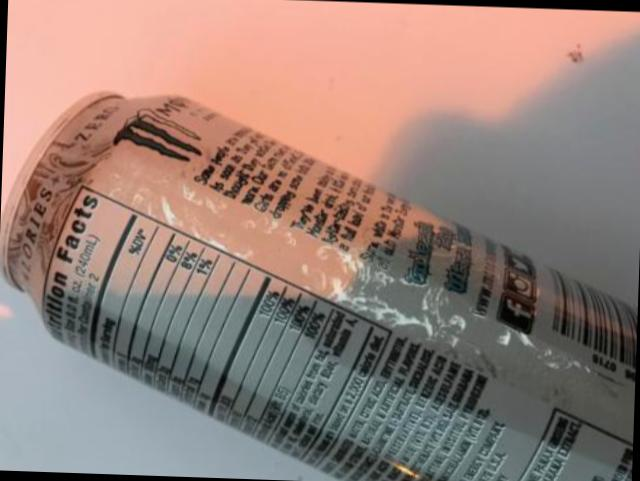metal: (0, 90, 638, 481)
